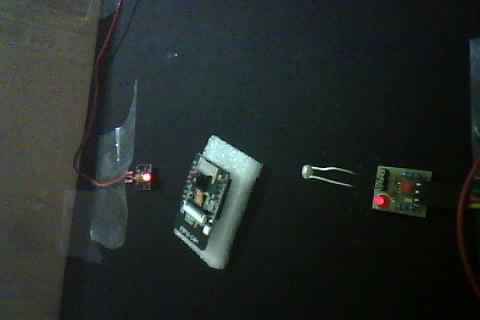esp32: (172, 134, 264, 271)
